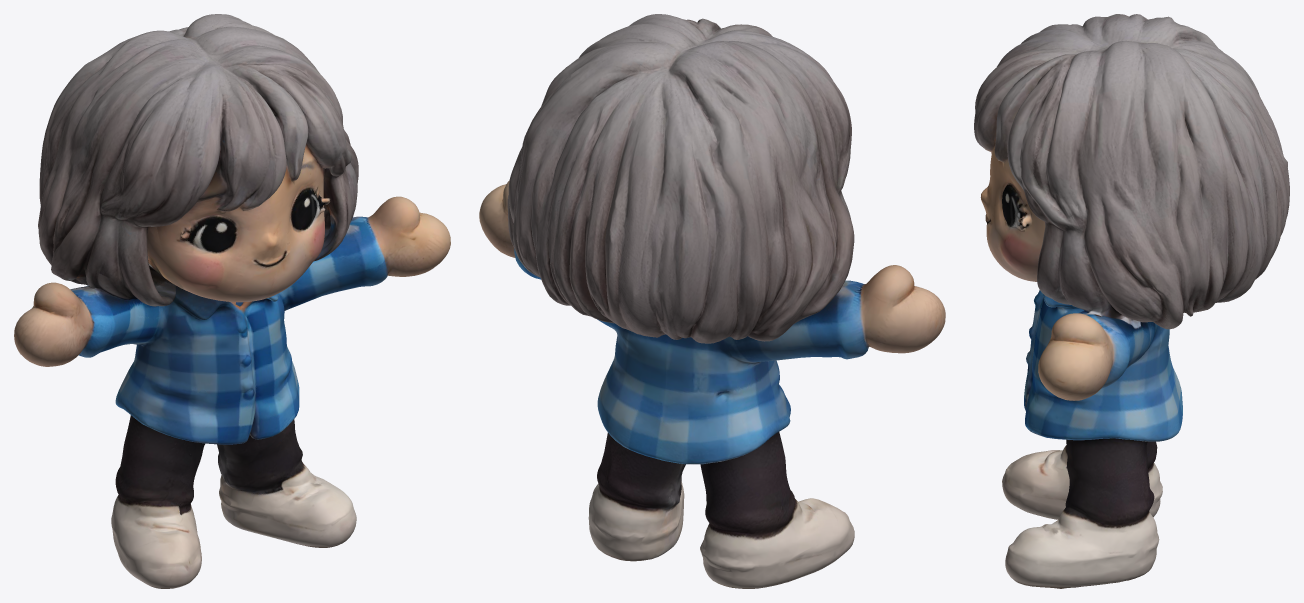
File: vickie.glb
The picture shows the model from 3 angles, left to right: view 1: azimuth 30°, elevation 25°; view 2: azimuth 150°, elevation 25°; view 3: azimuth 270°, elevation 25°; orthographic projection. The views are drawn at different scales.
Parts seen in each view (by area): view 1: vickie; view 2: vickie; view 3: vickie.
Part boxes in pixels (x1,y1,x2,y2): vickie: (14, 14, 450, 588); vickie: (479, 14, 945, 588); vickie: (974, 14, 1289, 588).
Bounding box in the file's own units: 0.8941 × 0.9891 × 0.5564.
Materials: 1 (1 with a texture image).
